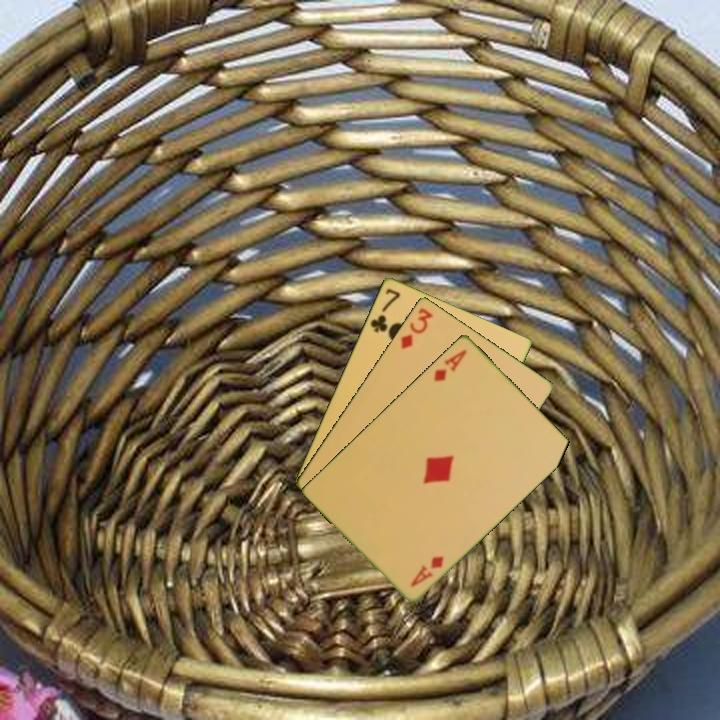3d: (397, 304, 436, 352)
7c: (366, 284, 403, 335)
Ad: (430, 345, 470, 384), (407, 552, 446, 589)
